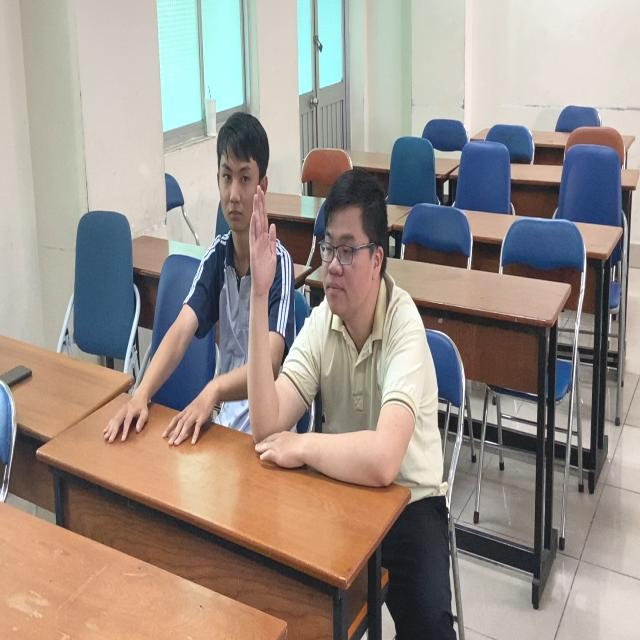raise_hand: (234, 170, 449, 511)
